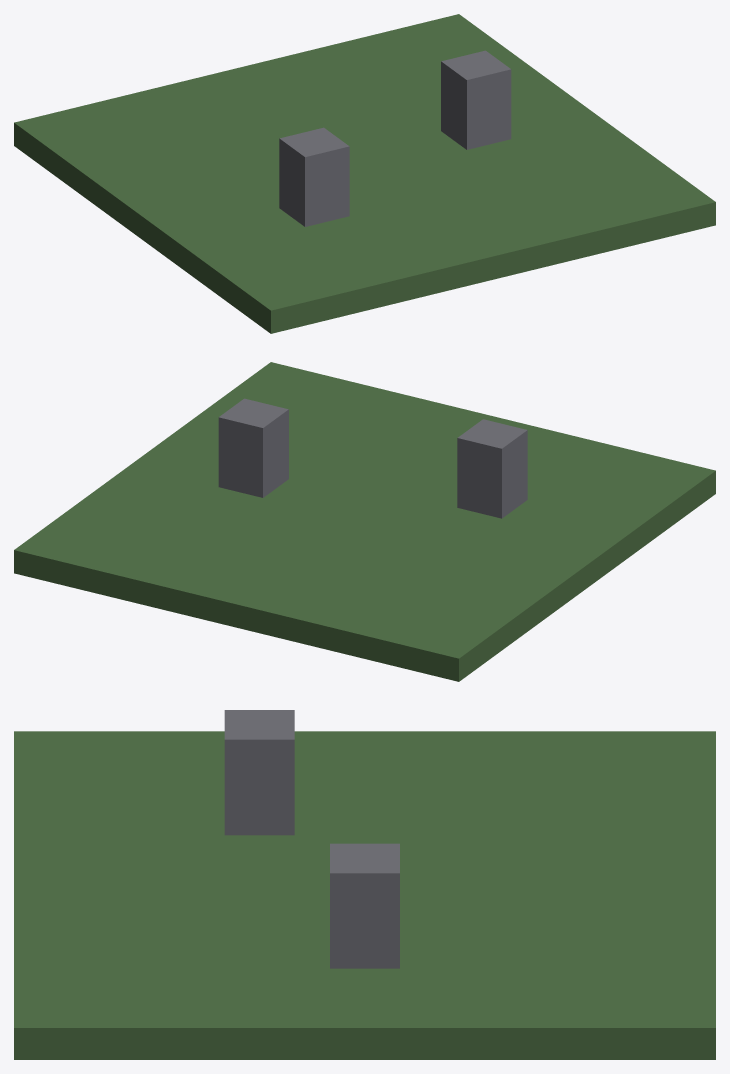
The model's file is sample.environment.glb.
The picture shows the model from 3 angles, top to bottom: view 1: azimuth 30°, elevation 25°; view 2: azimuth 150°, elevation 25°; view 3: azimuth 270°, elevation 25°; orthographic projection. The views are drawn at different scales.
Parts seen in each view (by area): view 1: MeshInstance3D, _MeshInstance3D_19890, _MeshInstance3D_19891; view 2: MeshInstance3D, _MeshInstance3D_19890, _MeshInstance3D_19891; view 3: MeshInstance3D, _MeshInstance3D_19891, _MeshInstance3D_19890.
Part boxes in pixels (x1,y1,x2,y2): MeshInstance3D: (14,14,715,333); _MeshInstance3D_19890: (441,50,511,149); _MeshInstance3D_19891: (279,127,349,226); MeshInstance3D: (14,362,715,681); _MeshInstance3D_19890: (218,398,288,497); _MeshInstance3D_19891: (457,419,527,518); MeshInstance3D: (14,731,715,1059); _MeshInstance3D_19891: (224,710,294,835); _MeshInstance3D_19890: (330,843,399,968).
Size of the model in its own units: 20 by 4 by 20.
